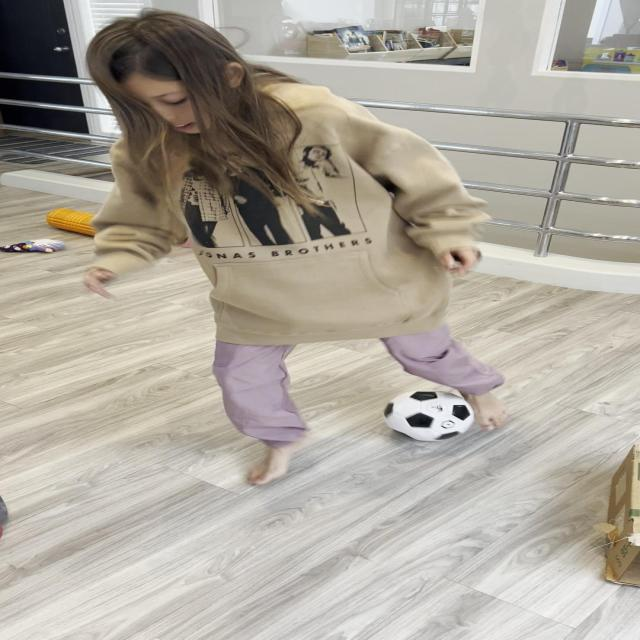Soccer Ball: (384, 389, 474, 442)
